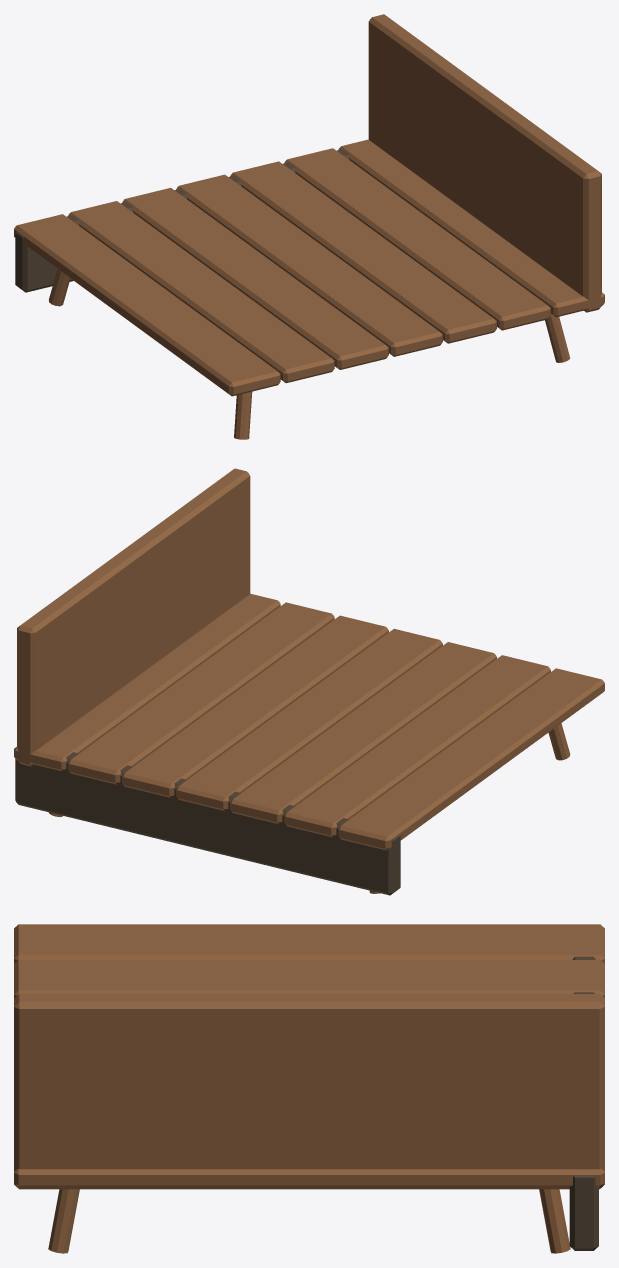
The model's file is Deck_Corner_A.glb.
3 renders of one model, top to bottom at view 1: azimuth 30°, elevation 25°; view 2: azimuth 150°, elevation 25°; view 3: azimuth 270°, elevation 25°, orthographic. The views are drawn at different scales.
Visible parts, largest first — view 1: Deck_Corner_A; view 2: Deck_Corner_A; view 3: Deck_Corner_A.
Part boxes in pixels (x1=…): Deck_Corner_A: x1=14, y1=14, x2=604, y2=439; Deck_Corner_A: x1=14, y1=468, x2=604, y2=895; Deck_Corner_A: x1=14, y1=924, x2=604, y2=1253.
Size of the model in its own units: 2 by 0.9887 by 2.
